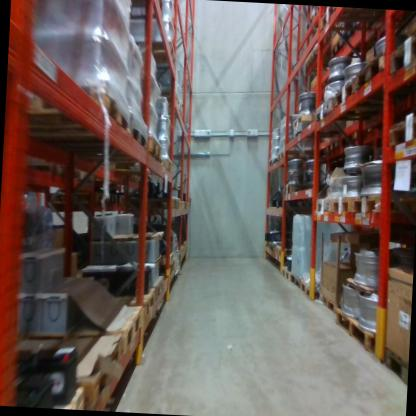pallet: (8, 323, 123, 392), (19, 78, 132, 143), (39, 299, 147, 357), (55, 113, 150, 159), (63, 126, 162, 170), (349, 48, 399, 105), (332, 305, 381, 359), (136, 31, 185, 83), (349, 184, 416, 222), (331, 80, 397, 117), (93, 281, 156, 318), (28, 377, 94, 409), (386, 19, 416, 89), (382, 100, 416, 155), (314, 98, 373, 129), (376, 345, 408, 390), (127, 275, 168, 306), (290, 109, 337, 132), (154, 86, 184, 121), (329, 189, 359, 223), (305, 12, 347, 36), (302, 54, 351, 73), (329, 37, 364, 63), (274, 146, 320, 164), (282, 179, 320, 200), (148, 155, 179, 177), (317, 286, 339, 314), (314, 193, 336, 215), (298, 278, 321, 298), (274, 242, 297, 261), (158, 197, 179, 210), (266, 157, 283, 170), (324, 137, 339, 149), (280, 263, 290, 281), (288, 272, 300, 287), (268, 240, 279, 253), (177, 201, 190, 210), (262, 236, 269, 249)
